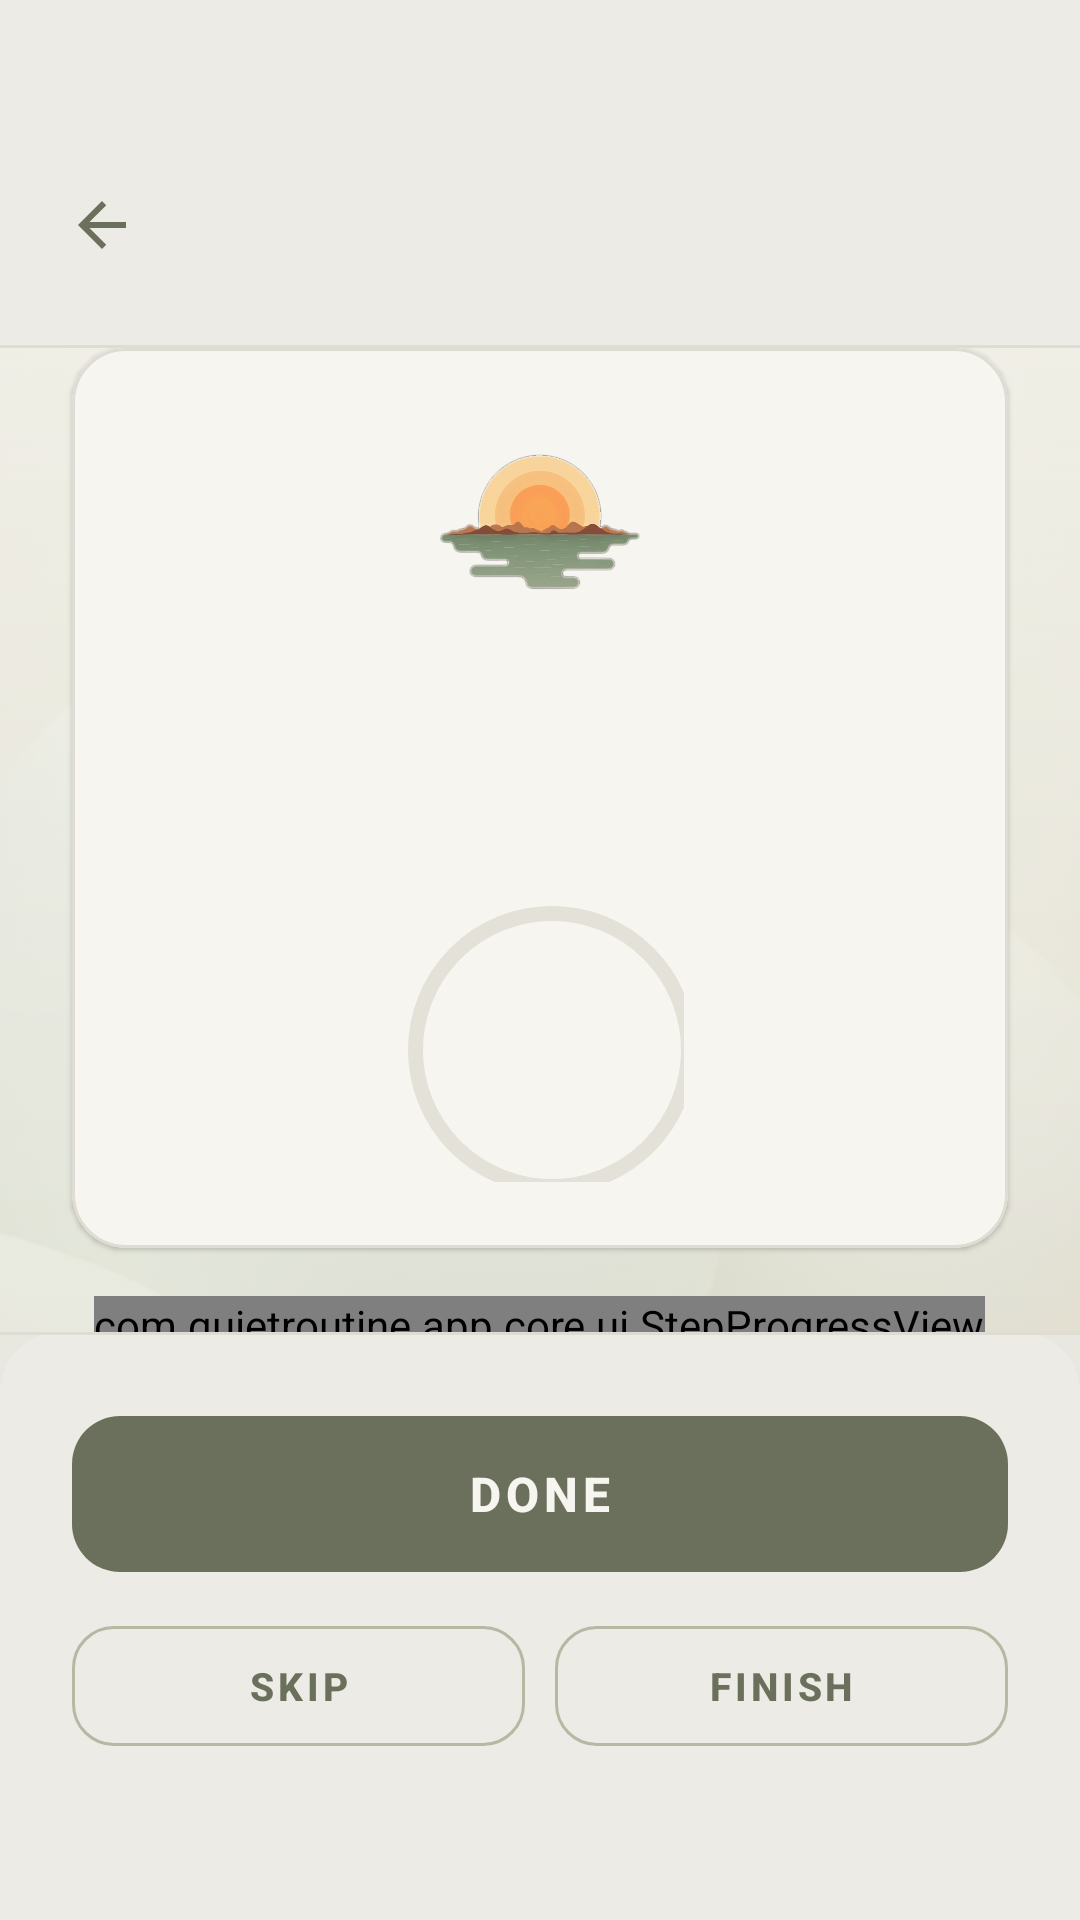

Named icons in this screenshot (1080px×1920px) and their bounding boxes, (x1, y1, x2, y2):
Go back: (78, 201, 126, 249)
Routine category icon: (440, 455, 640, 589)
